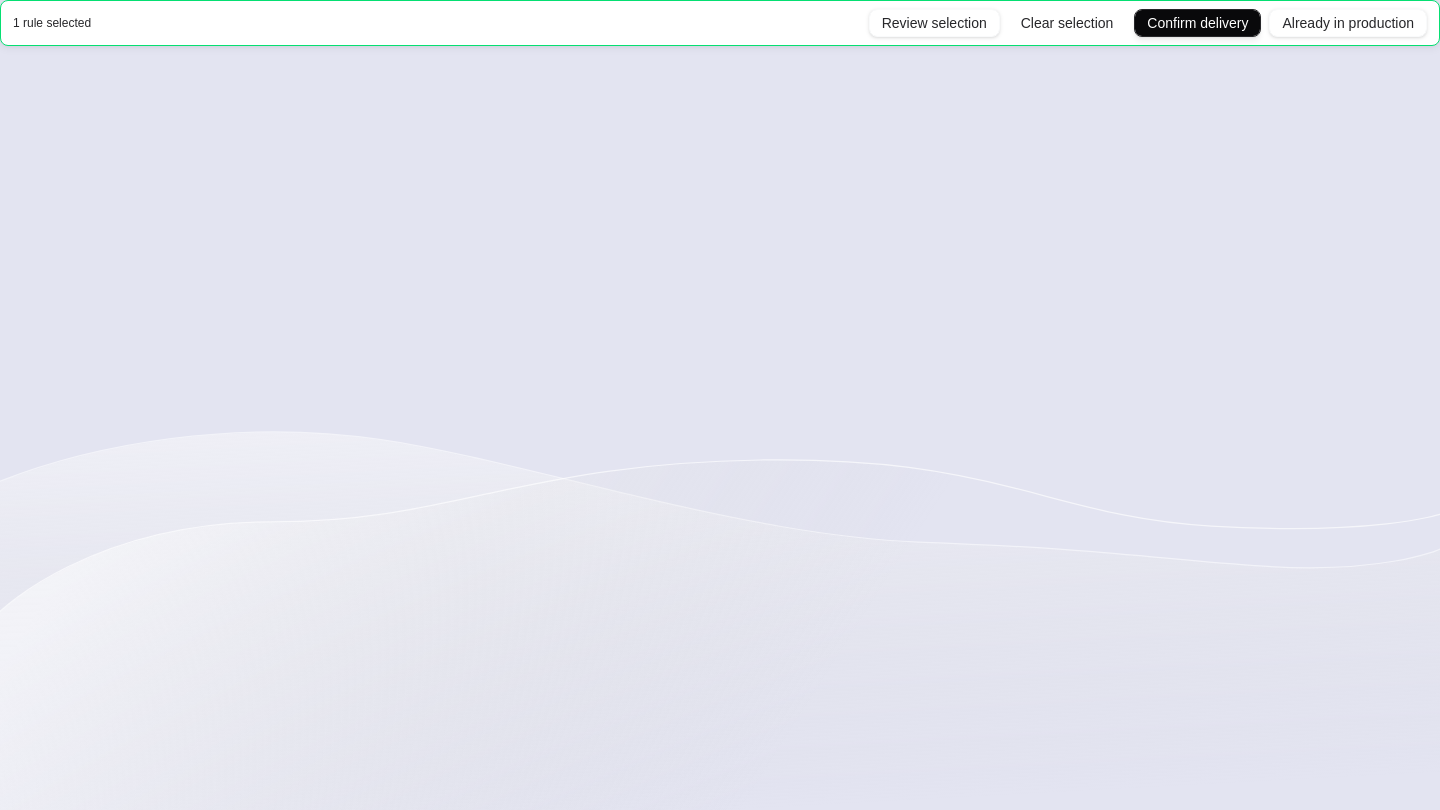
it: Intent delivery UI › keeps the delivery form available in an automatic workspace and says who records normally
Step 1. Click the button "Confirm delivery" → {"x": 1198, "y": 23}, box [1134,9,1261,37]
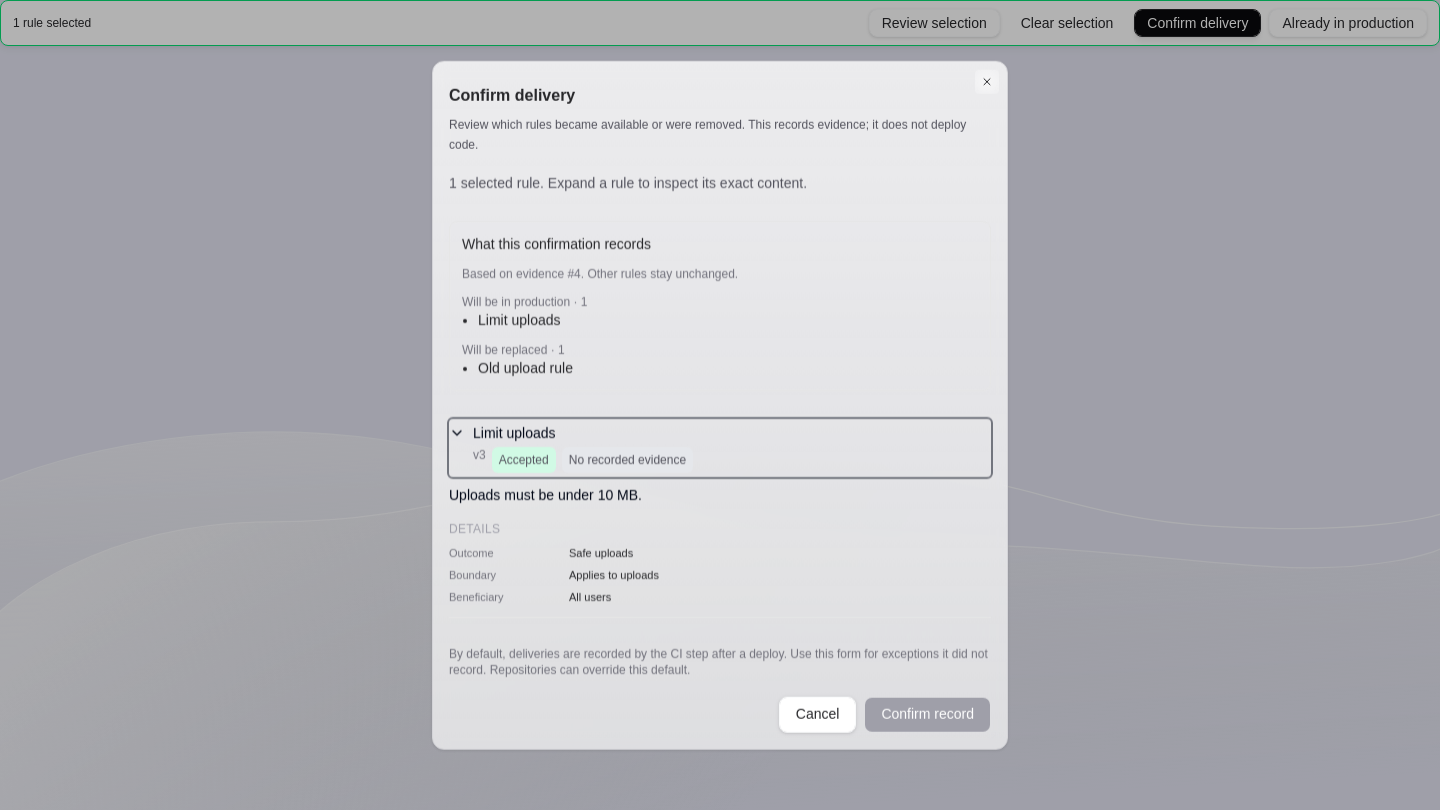
Expected: the dialog is shown, [432,61,1008,749]
Expected: the text "CI step after a deploy" is shown, [670,647,784,661]
